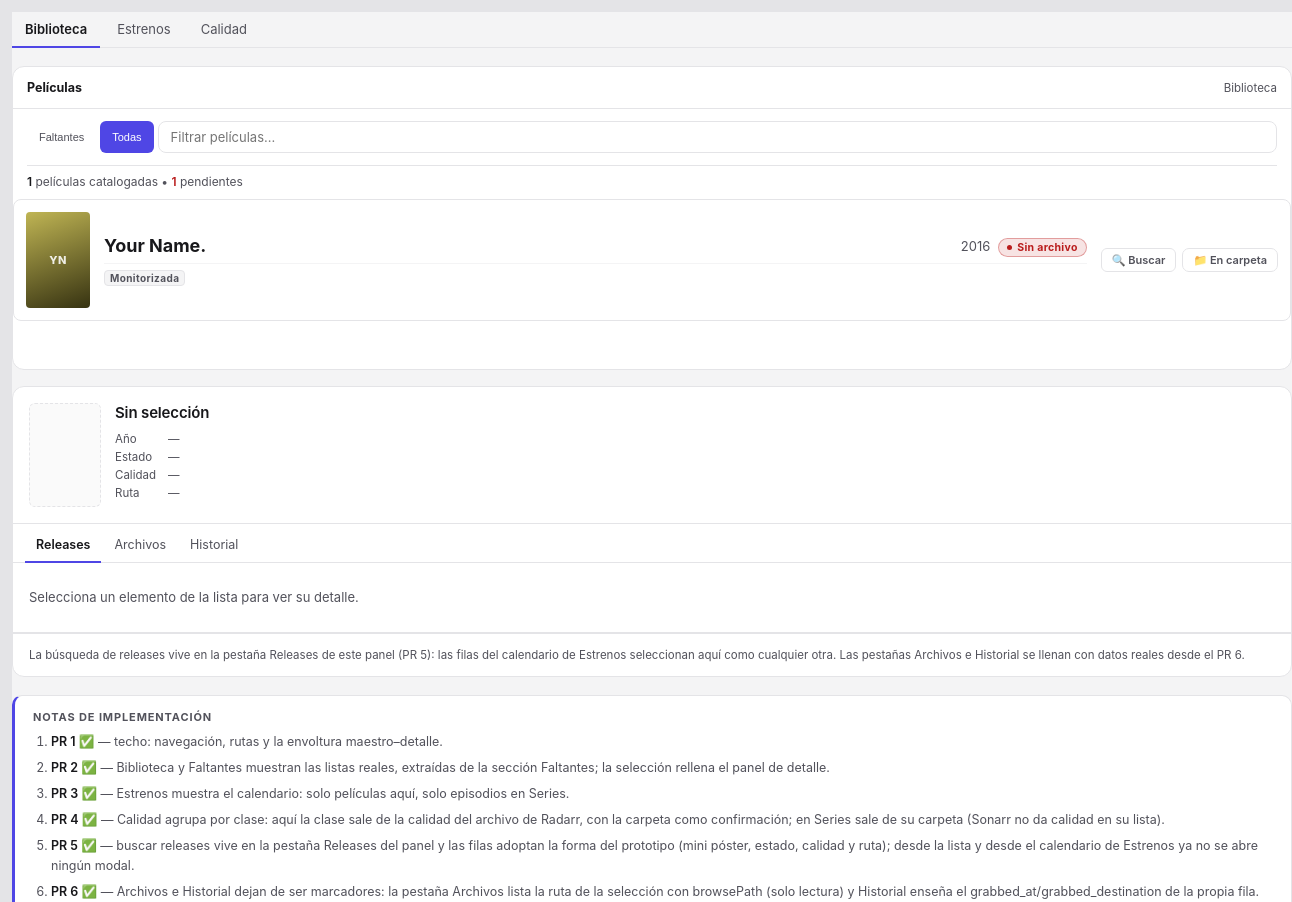
Test: Películas · PR 2 wiring › fills the detail panel with the selected row’s own data
Expected: the text "Your Name." is shown, 104,235 -> 206,256
What coordinates should you click on to do the following:
click the element that starts with "Your Name."
I would click on:
 (652, 260)
Its box is 13,199 -> 1291,321.
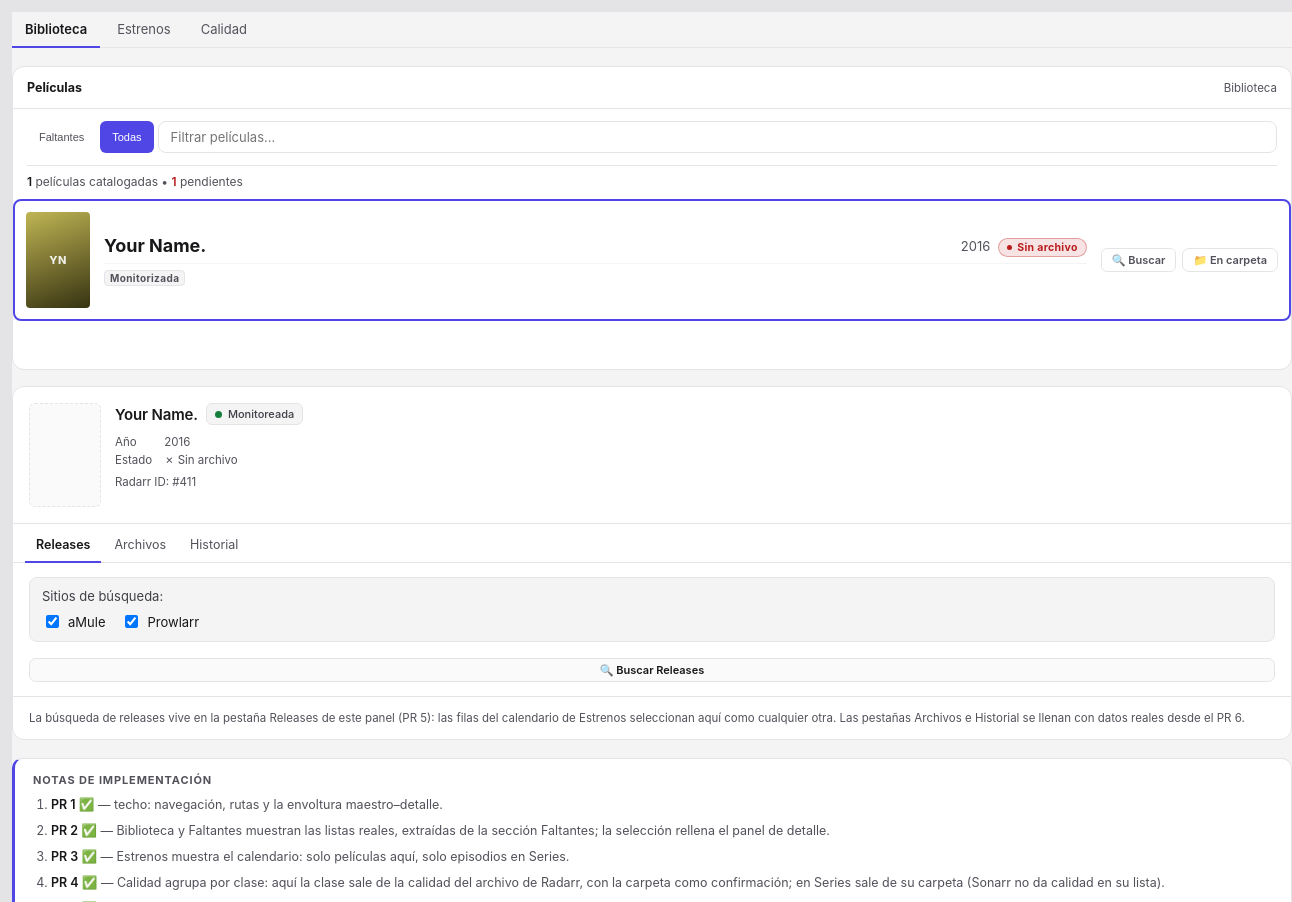
Expected: the heading "Your Name." is shown, 115,404 -> 198,424
Expected: the text "2016" next to "Año" is shown, 164,435 -> 190,449
Expected: the text "✗ Sin archivo" is shown, 164,453 -> 238,467
# A switch resets the selection: the panel belongs to the visible list.
What coordinates should you click on to do the following:
click the button "Faltantes"
I would click on:
 (62, 137)
Its box is 27,121 -> 96,153.
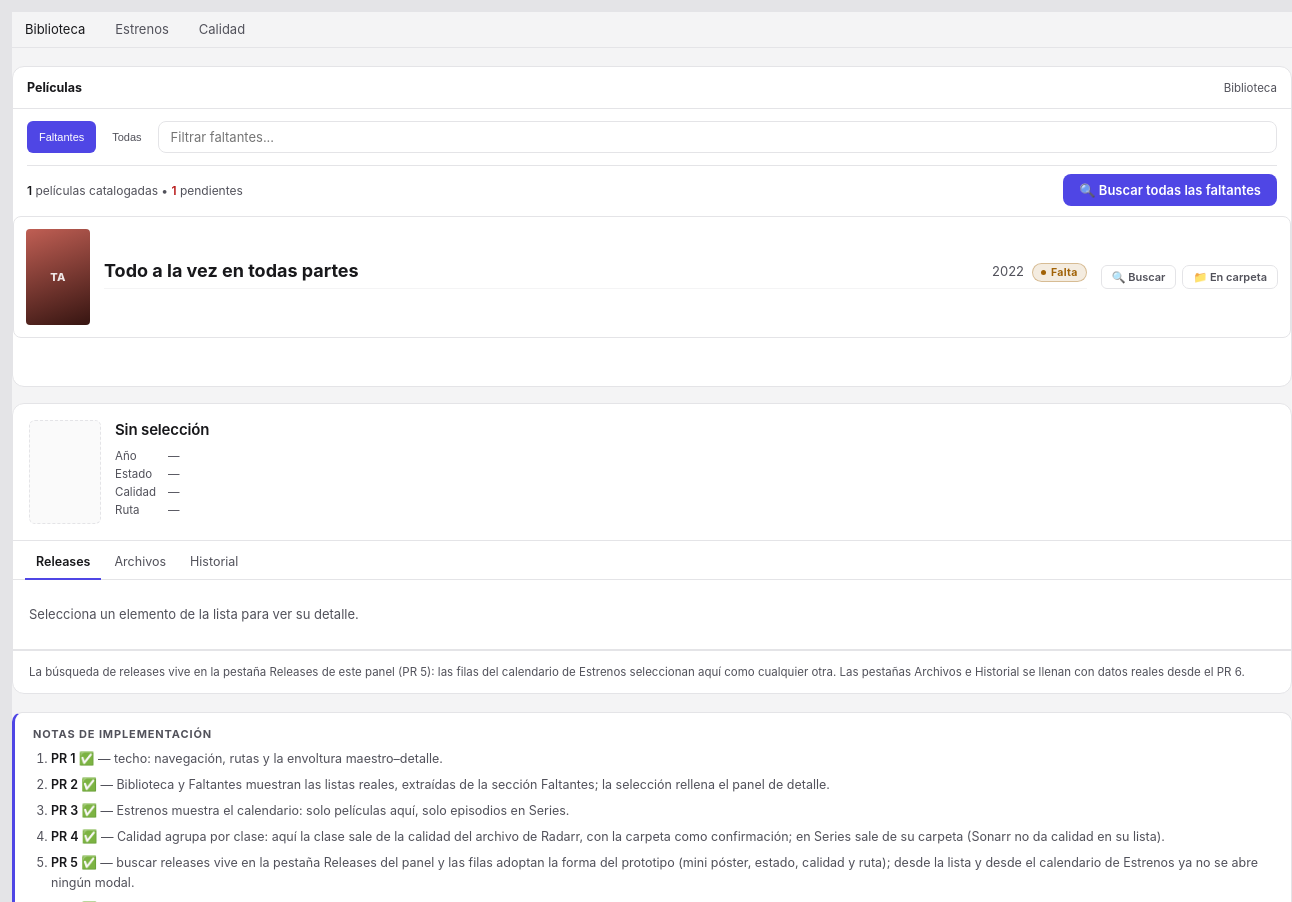
Expected: the heading "Sin selección" is shown, 115,420 -> 209,439
